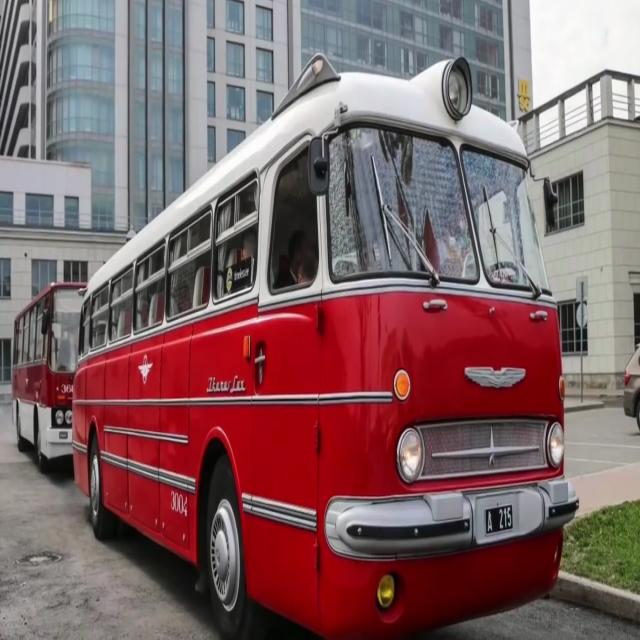bus: (70, 47, 584, 640)
